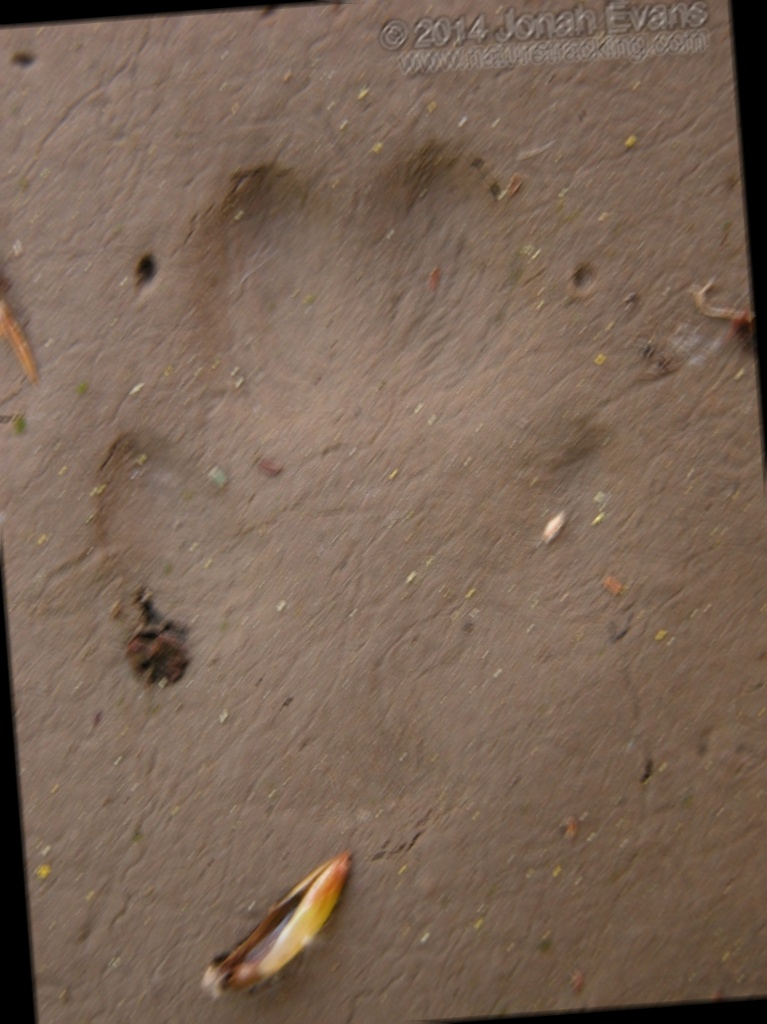fox: (27, 85, 681, 921)
